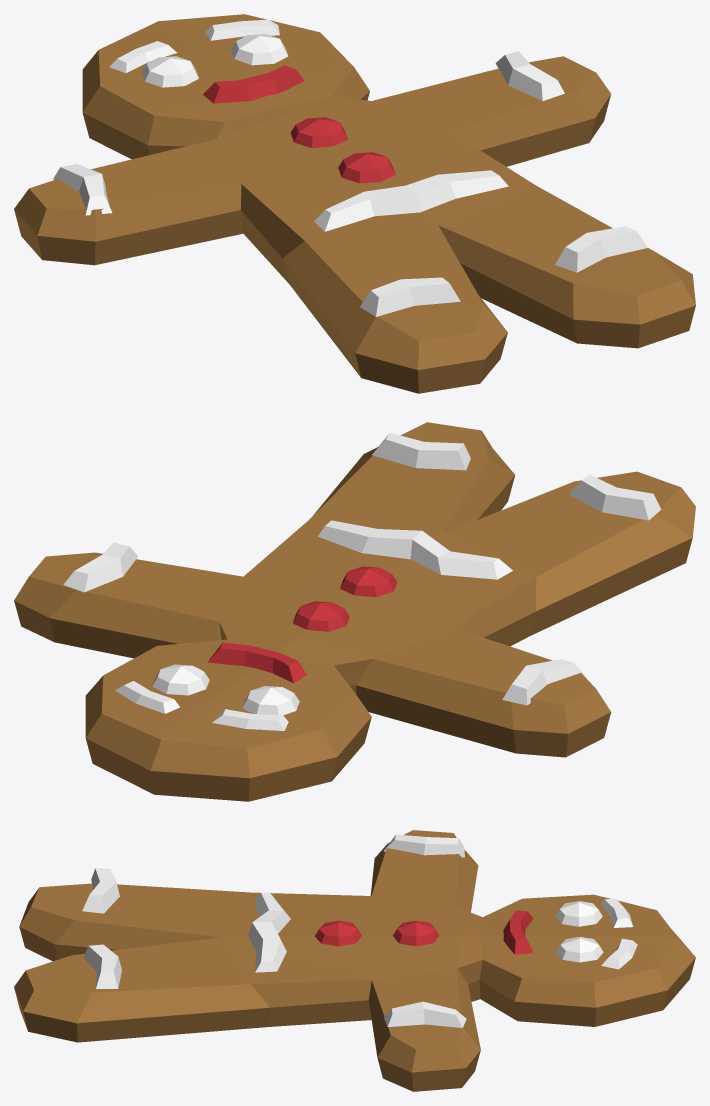
The model's file is food_gingerbread-man.fbx.
3 renders of one model, top to bottom at view 1: azimuth 30°, elevation 25°; view 2: azimuth 150°, elevation 25°; view 3: azimuth 270°, elevation 25°, orthographic. The views are drawn at different scales.
Parts seen in each view (by area): view 1: food_gingerbread_man; view 2: food_gingerbread_man; view 3: food_gingerbread_man.
Boxes of the visible parts, bbox=[...] form: food_gingerbread_man: bbox=[14, 14, 695, 393]; food_gingerbread_man: bbox=[14, 422, 695, 801]; food_gingerbread_man: bbox=[14, 830, 695, 1091].
Bounding box in the file's own units: 159 × 18.4 × 200.
